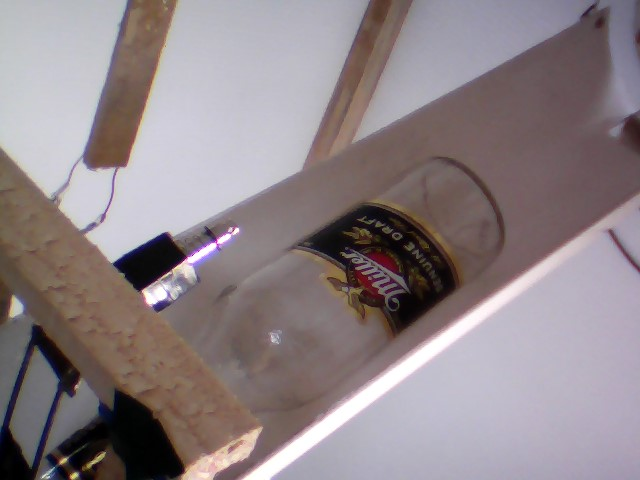vidrio: (185, 153, 518, 417)
